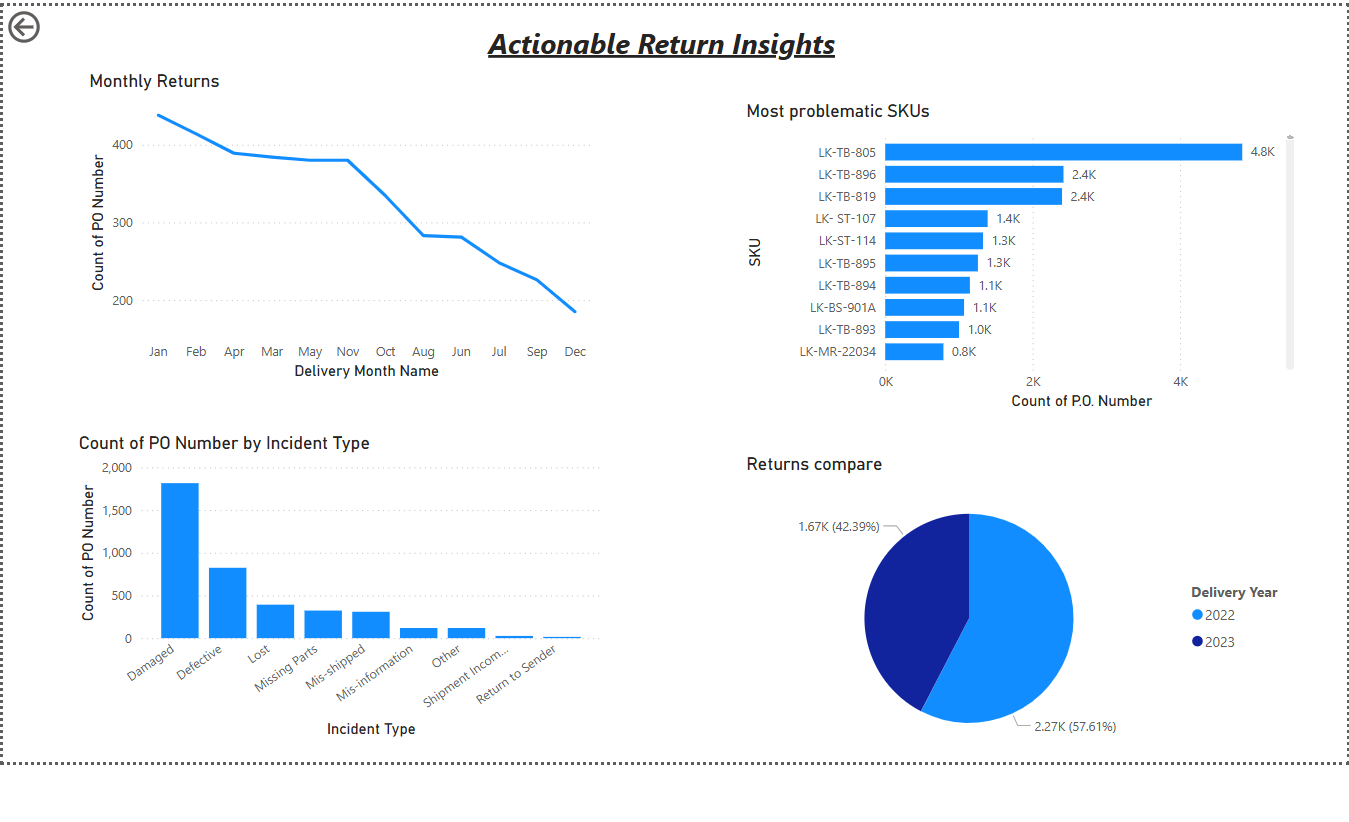

The page's visual inventory and layout, read from the dashboard file:
{"tool":"powerbi","page":{"name":"Page 1","canvas":[1280,720],"ordinal":0},"visuals":[{"type":"lineChart","title":"Monthly Returns","fields":{"Category":["Returns.Delivery Month Name"],"Y":["CountNonNull(Returns.PO Number)"]},"box":[76.7,61.7,486.7,298.3],"z":0},{"type":"barChart","title":"Most problematic SKUs","fields":{"Category":["Sales.SKU"],"Y":["CountNonNull(Sales.P.O. Number)"]},"box":[703.3,90,531.7,298.3],"z":1000},{"type":"clusteredColumnChart","fields":{"Category":["Returns.Incident Type"],"Y":["CountNonNull(Returns.PO Number)"]},"box":[66.7,405,506.7,295],"z":2000},{"type":"actionButton","box":[0,0,100,40],"z":3000},{"type":"pieChart","title":"Returns compare ","fields":{"Category":["Returns.Delivery Year"],"Y":["CountNonNull(Returns.PO Number)"]},"box":[703.3,425,531.7,295],"z":4000},{"type":"textbox","box":[161.7,0,931.7,61.7],"z":4001}]}

Visuals, with their boxes on the page's 1280x720 design canvas (x1, y1, x2, y2). These are canvas units, not pixel positions in the 1349x822 screenshot, which may show the page scaled, cropped or inside an application window:
"Monthly Returns" lineChart: [left=77, top=62, right=563, bottom=360]
"Most problematic SKUs" barChart: [left=703, top=90, right=1235, bottom=388]
clusteredColumnChart - Returns.Incident Type x CountNonNull(Returns.PO Number): [left=67, top=405, right=573, bottom=700]
actionButton: [left=0, top=0, right=100, bottom=40]
"Returns compare " pieChart: [left=703, top=425, right=1235, bottom=720]
textbox: [left=162, top=0, right=1093, bottom=62]
